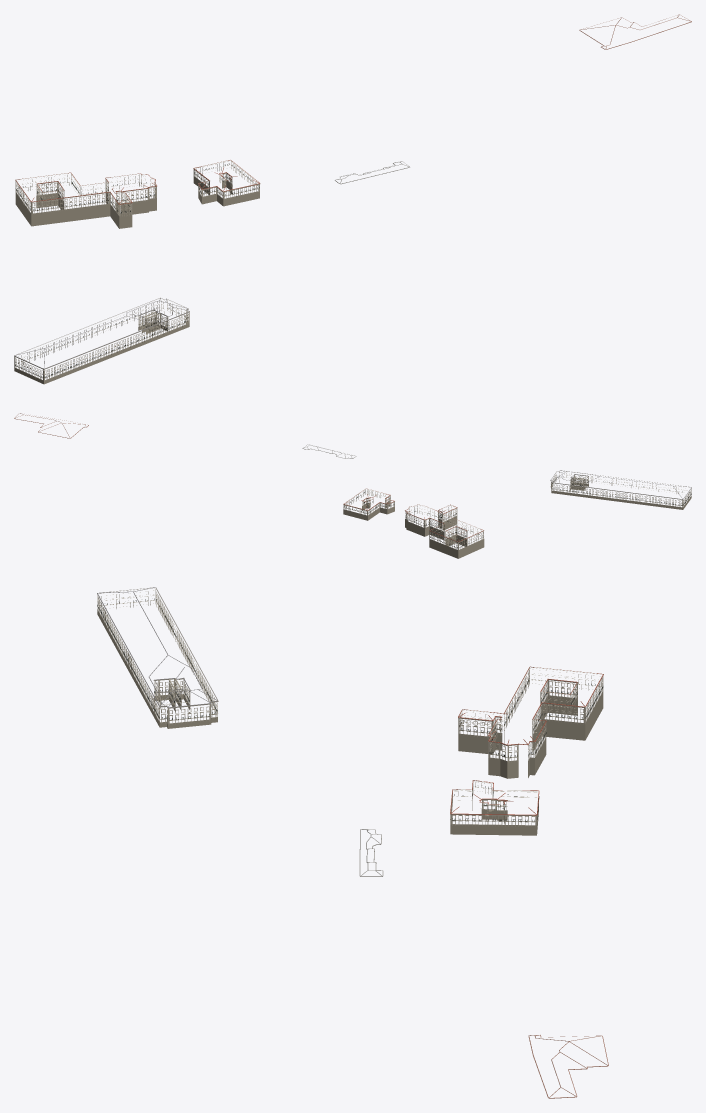
3 views of the same model, one above another, from view 1: azimuth 30°, elevation 25°; view 2: azimuth 150°, elevation 25°; view 3: azimuth 270°, elevation 25° (orthographic). The views are drawn at different scales.
Parts seen in each view (by area): view 1: detail; view 2: detail; view 3: detail.
Boxes of the visible parts, x1,y1,x2,y2 form: detail: (14, 14, 691, 384); detail: (14, 413, 691, 558); detail: (97, 587, 608, 1098).
Size of the model in its own units: 609 by 37.54 by 239.
